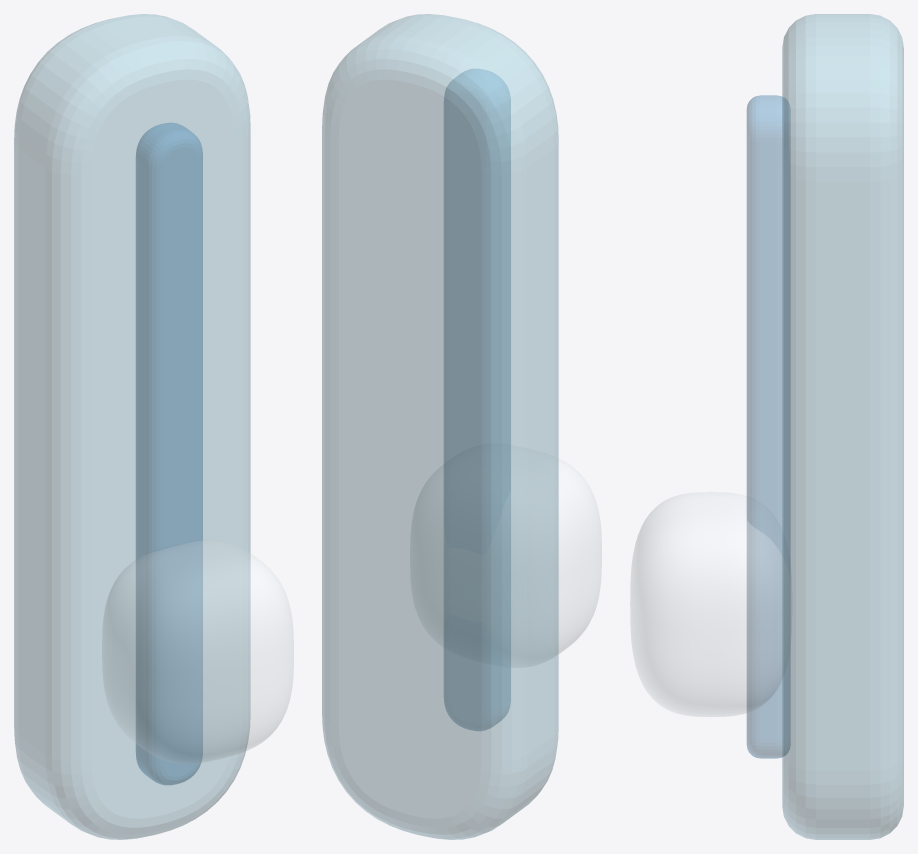
The picture shows the model from 3 angles, left to right: view 1: azimuth 30°, elevation 25°; view 2: azimuth 150°, elevation 25°; view 3: azimuth 270°, elevation 25°; orthographic projection.
Visible parts, largest first — view 1: cradle, channel, thumb-0; view 2: cradle, channel, thumb-0; view 3: cradle, thumb-0, channel.
Part boxes in pixels (x1,y1,x2,y2): cradle: [14, 14, 250, 839]; channel: [136, 123, 202, 784]; thumb-0: [102, 540, 293, 763]; cradle: [322, 14, 558, 839]; channel: [444, 69, 510, 730]; thumb-0: [558, 459, 601, 653]; cradle: [782, 14, 903, 839]; thumb-0: [630, 492, 782, 716]; channel: [747, 95, 790, 758].
Bounding box in the file's own units: 0.69 × 2.6 × 0.81.
